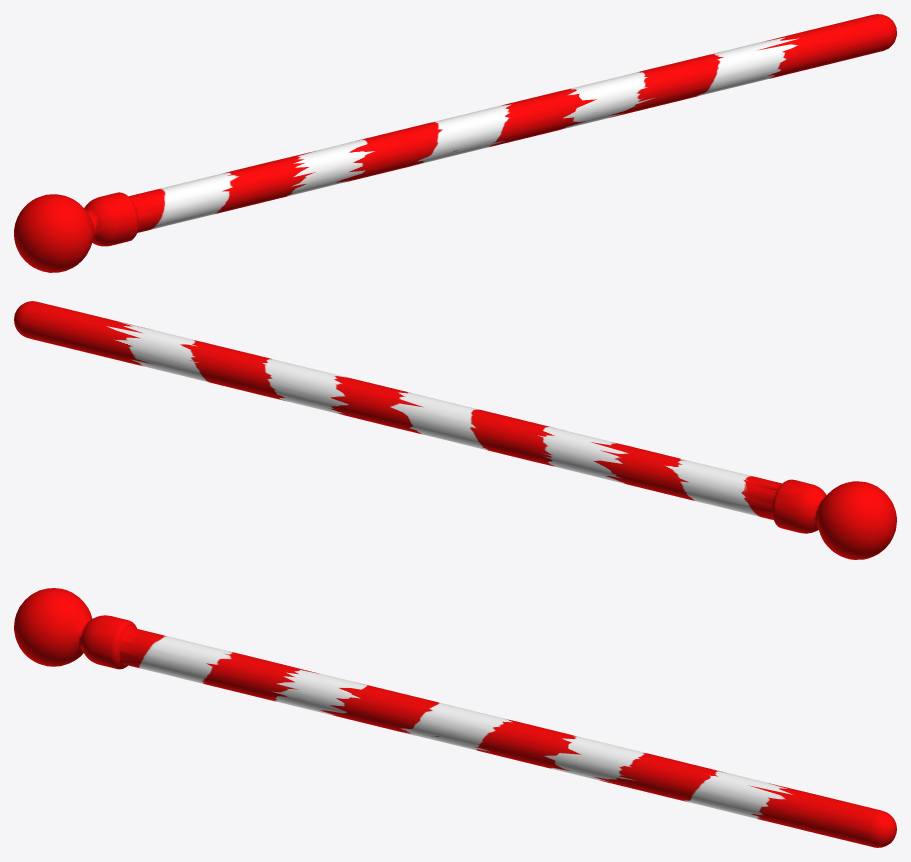
File: barrier_train.glb
3 views of the same model, one above another, from view 1: azimuth 30°, elevation 25°; view 2: azimuth 150°, elevation 25°; view 3: azimuth 330°, elevation 25° (orthographic).
Visible parts, largest first — view 1: Mesh_0; view 2: Mesh_0; view 3: Mesh_0.
Part boxes in pixels (box(x1,y1,x2,y2)): Mesh_0: box(14, 14, 896, 272); Mesh_0: box(14, 301, 896, 559); Mesh_0: box(14, 588, 896, 847).
Bounding box in the file's own units: 1.9 × 0.1477 × 0.1482.
1 material, 1 textured.
